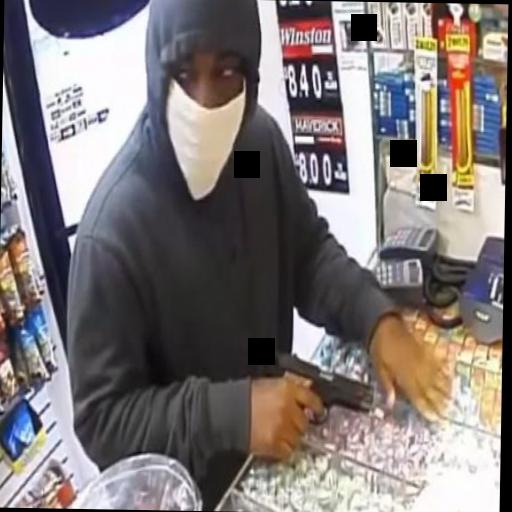Handgun: (268, 349, 374, 461)
